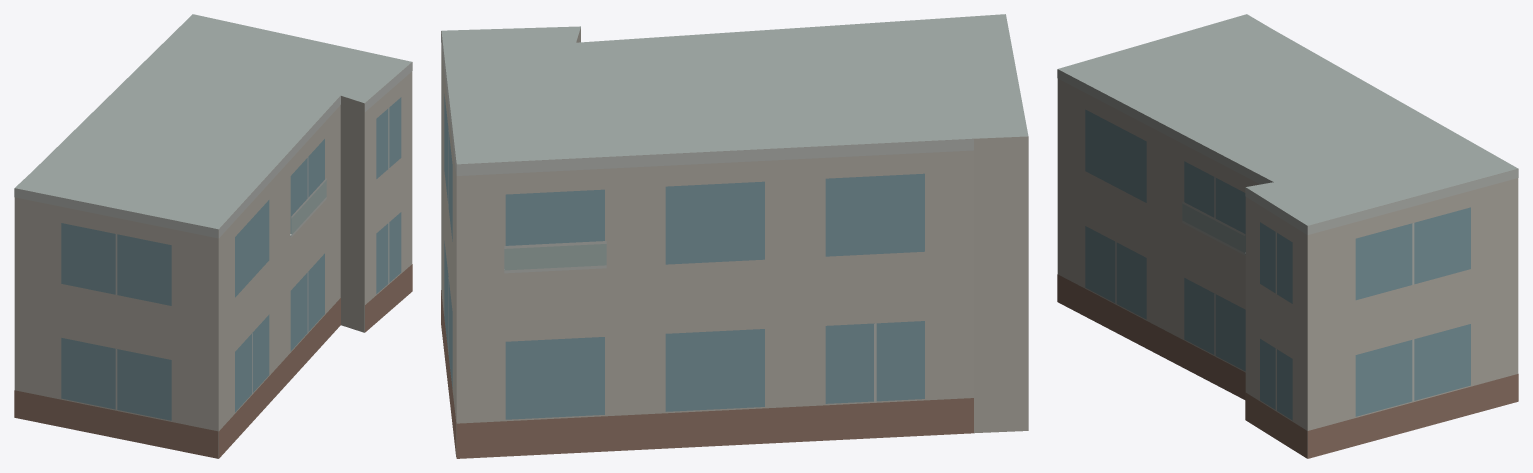
Rendered from survey-upis-32635184.glb.
The picture shows the model from 3 angles, left to right: view 1: azimuth 30°, elevation 25°; view 2: azimuth 150°, elevation 25°; view 3: azimuth 270°, elevation 25°; orthographic projection. The views are drawn at different scales.
Visible parts, largest first — view 1: survey-upis-32635184.tmp; view 2: survey-upis-32635184.tmp; view 3: survey-upis-32635184.tmp.
Boxes of the visible parts, x1=… form: survey-upis-32635184.tmp: x1=14, y1=14, x2=412, y2=458; survey-upis-32635184.tmp: x1=441, y1=14, x2=1028, y2=458; survey-upis-32635184.tmp: x1=1057, y1=14, x2=1518, y2=458.
Bounding box in the file's own units: 11.91 × 6.1 × 10.95.
